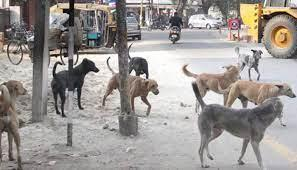normal_dogs: (188, 78, 297, 170), (224, 77, 297, 134), (102, 54, 166, 116), (180, 59, 247, 113), (48, 57, 104, 117), (0, 77, 35, 170), (120, 35, 156, 78), (234, 43, 267, 83)
